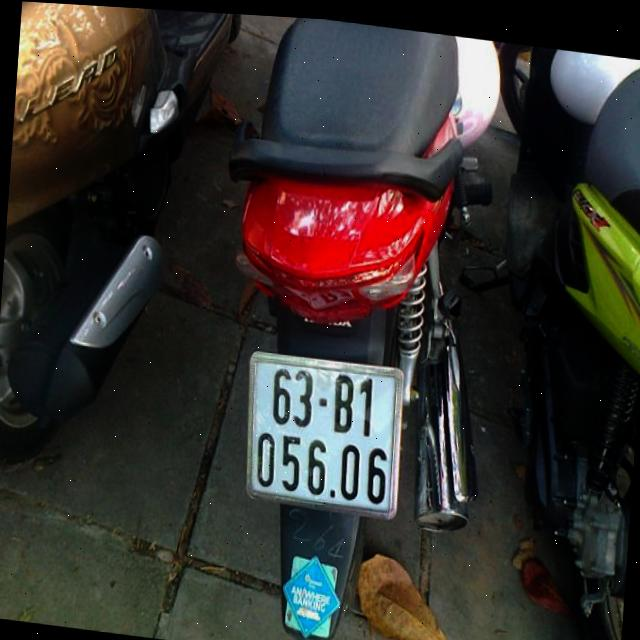motorcycle: (197, 12, 507, 640), (0, 0, 236, 505), (452, 38, 640, 640)
plate: (238, 343, 410, 524)
